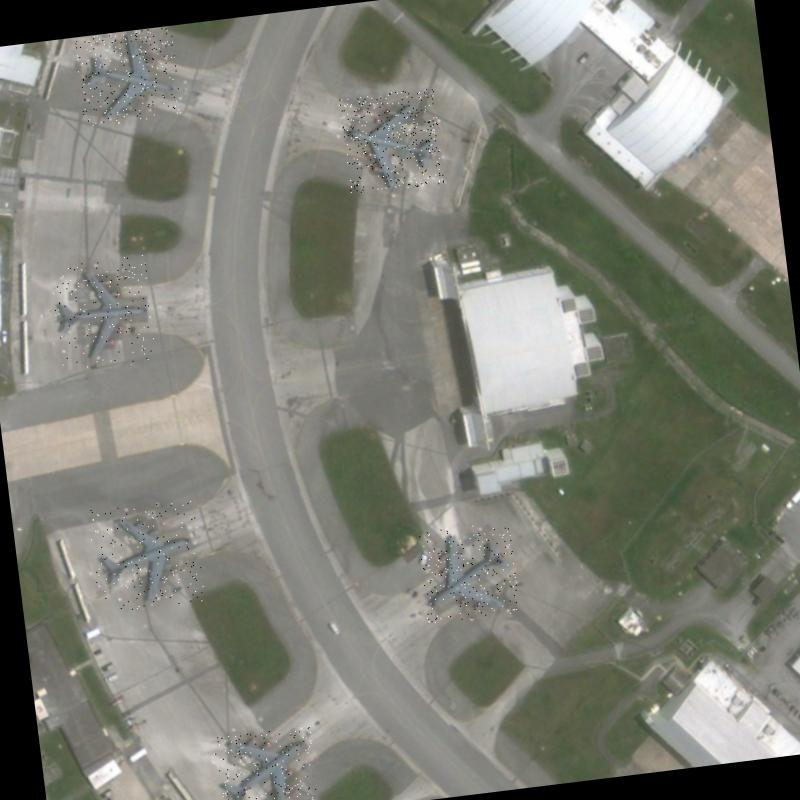A14: (87, 497, 206, 616), (49, 252, 157, 370), (338, 86, 445, 194), (73, 26, 182, 127), (416, 520, 520, 624), (210, 725, 320, 800)
